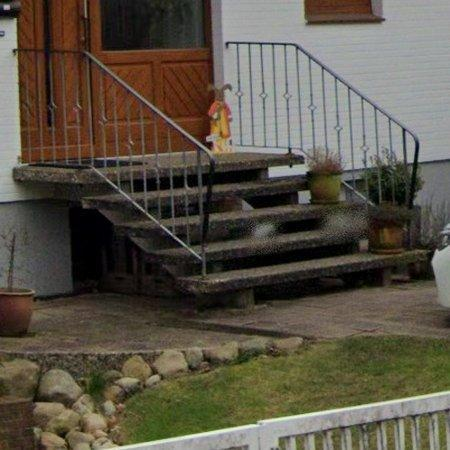stairs: (13, 50, 427, 296)
